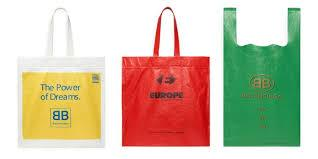Plastic bag: (116, 2, 216, 159), (219, 2, 313, 159), (16, 0, 109, 153)
